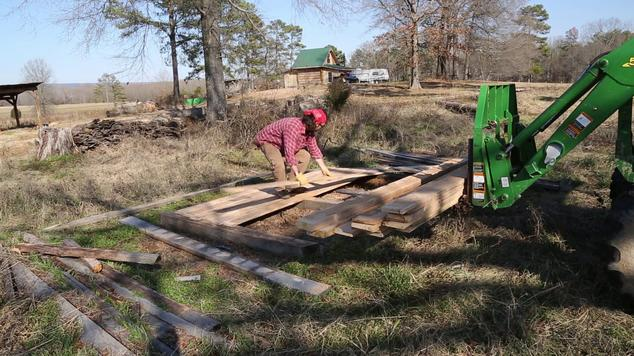crouch: (245, 98, 333, 192)
sit: (245, 98, 333, 192)
